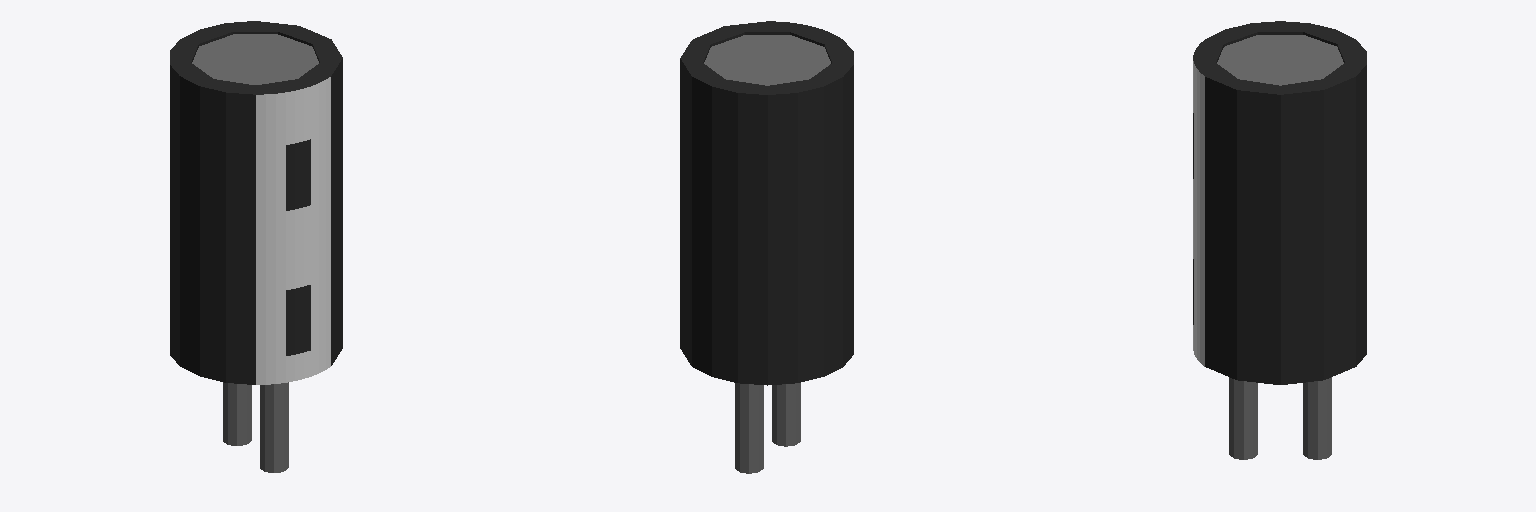
File: Kondensator.obj
3 views of the same model, side by side, from view 1: azimuth 30°, elevation 25°; view 2: azimuth 150°, elevation 25°; view 3: azimuth 270°, elevation 25° (orthographic).
Visible parts, largest first — view 1: Volumenkörper2; view 2: Volumenkörper2; view 3: Volumenkörper2.
Part boxes in pixels (left/top/right/bottom): Volumenkörper2: left=170, top=21, right=342, bottom=472; Volumenkörper2: left=680, top=21, right=853, bottom=473; Volumenkörper2: left=1193, top=21, right=1366, bottom=459.
Bounding box in the file's own units: 6 × 15 × 5.95.